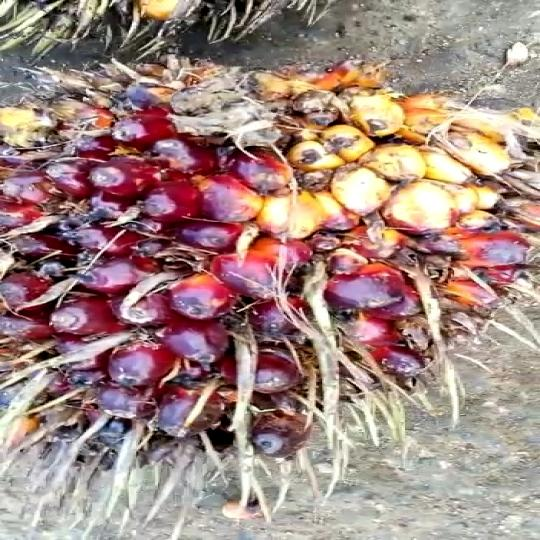masak: (0, 43, 540, 512)
